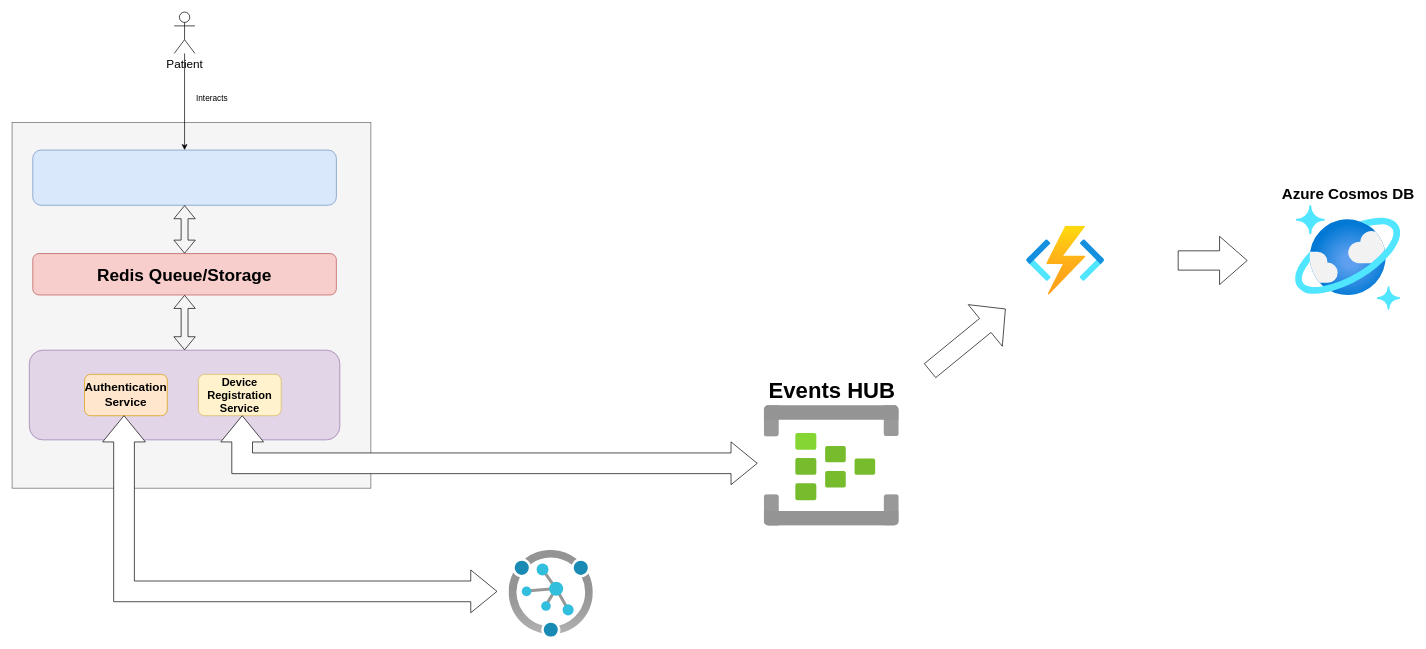
Some shapes in this 1426 by 649 pixel diagram are drawn without their labels. The shapes that lost their labels are listed below. From the top down, each one's centre as x and y in pixels, then its label:
point 184,177: UI Service
point 1065,260: Azure Functions
point 551,593: Azure Device Provisioning Service
